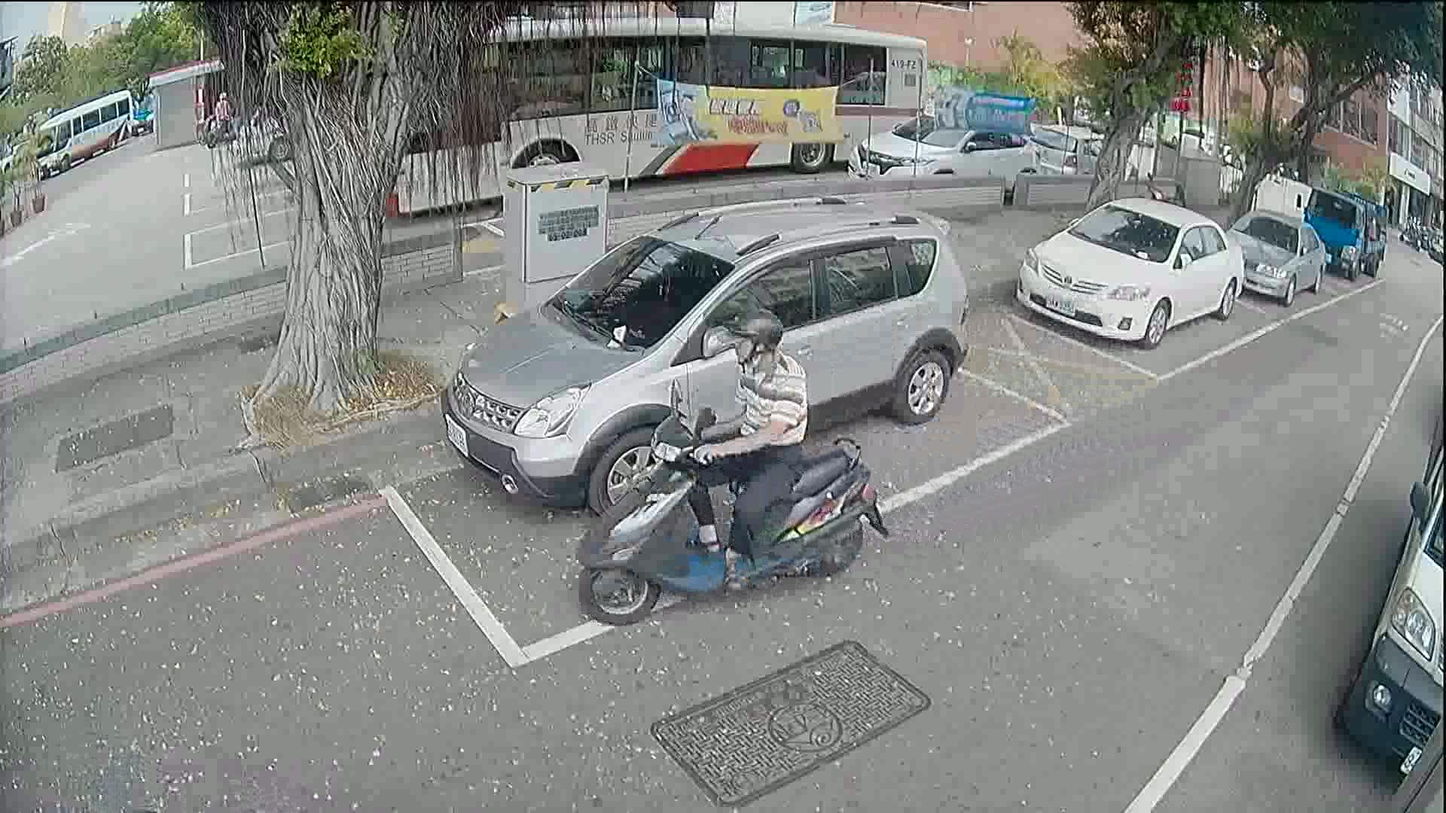person: (654, 291, 814, 603), (208, 85, 232, 143)
